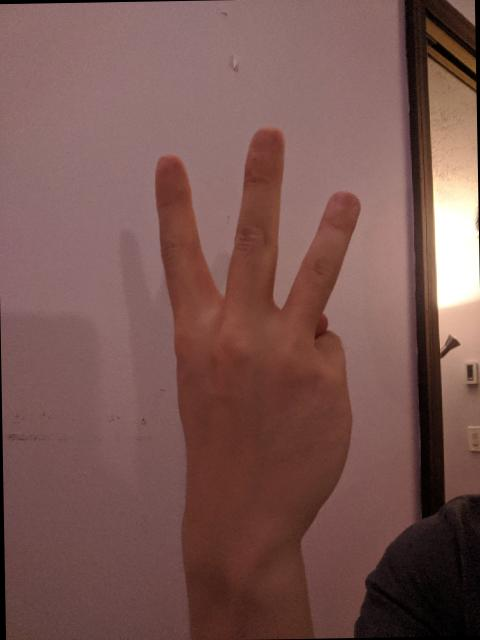W: (146, 117, 373, 552)
